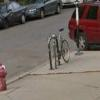Bicycle: (41, 25, 70, 69)
